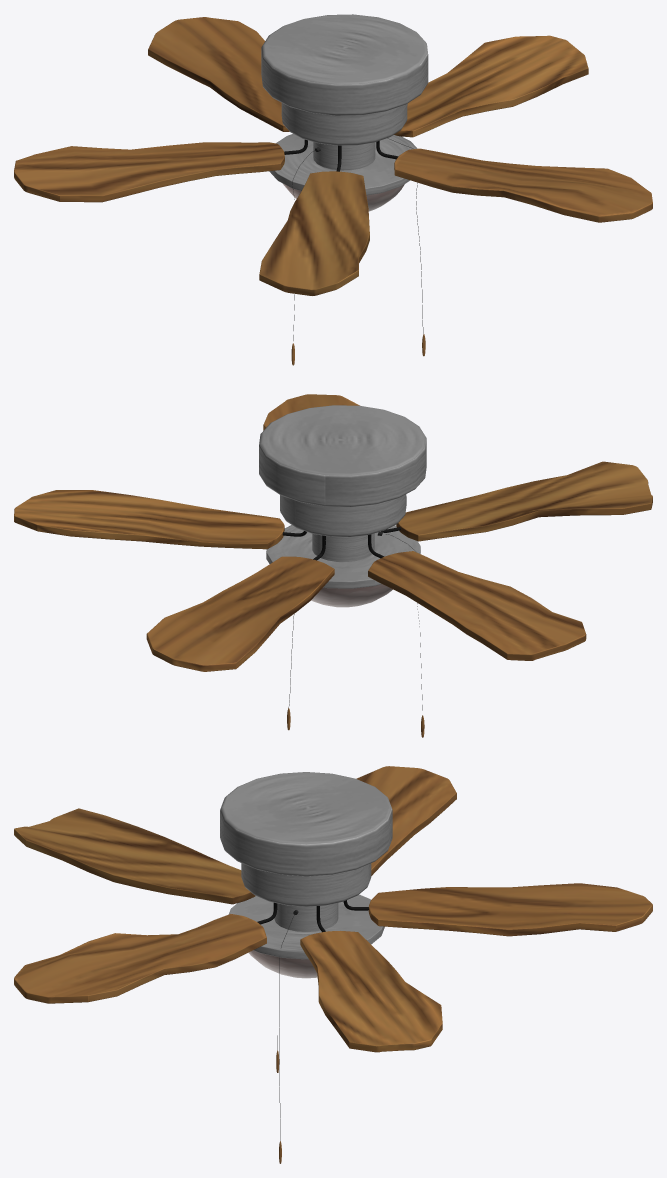
File: ceiling_fan.glb
3 renders of one model, top to bottom at view 1: azimuth 30°, elevation 25°; view 2: azimuth 150°, elevation 25°; view 3: azimuth 270°, elevation 25°, orthographic. The views are drawn at different scales.
Visible parts, largest first — view 1: Object_2, Object_3; view 2: Object_3, Object_2; view 3: Object_3, Object_2.
Boxes of the visible parts, <box> form: Object_2: <box>14,14,652,365</box>; Object_3: <box>148,17,588,340</box>; Object_3: <box>14,461,652,710</box>; Object_2: <box>259,394,586,737</box>; Object_3: <box>14,808,652,1052</box>; Object_2: <box>14,766,456,1163</box>.
Bounding box in the file's own units: 3.79 × 2.05 × 3.67.
Materials: 1 (1 with a texture image).
